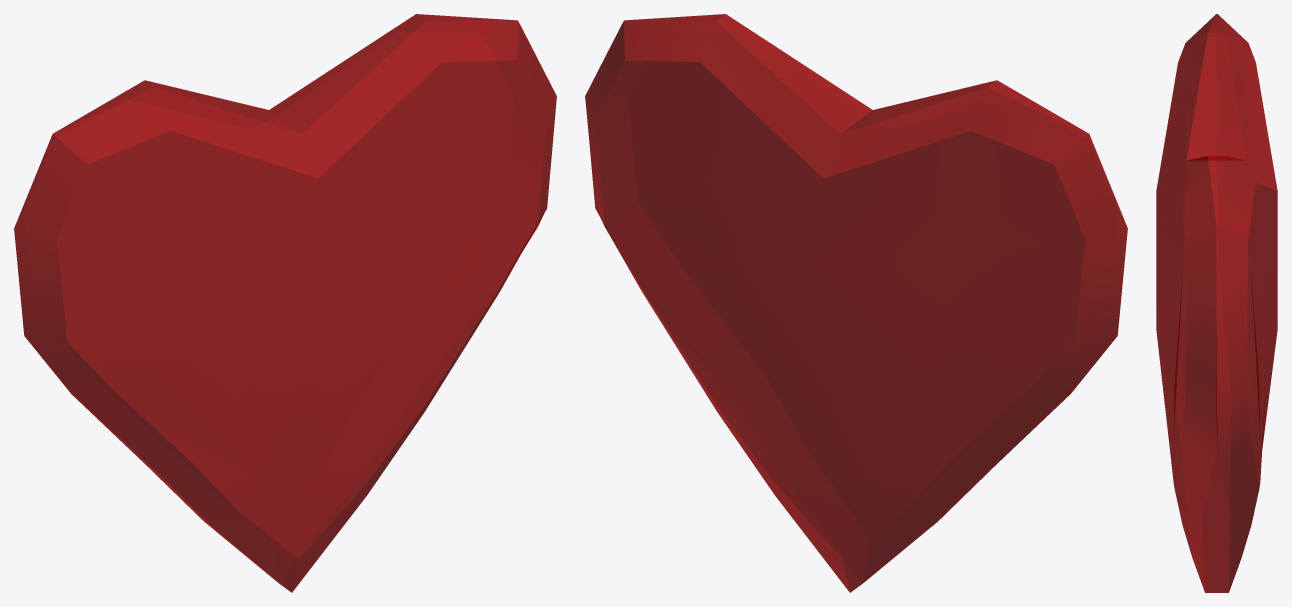
The model's file is HealthPowerup.fbx.
3 views of the same model, side by side, from view 1: azimuth 30°, elevation 25°; view 2: azimuth 150°, elevation 25°; view 3: azimuth 270°, elevation 25° (orthographic). The views are drawn at different scales.
Visible parts, largest first — view 1: pCube1; view 2: pCube1; view 3: pCube1.
Boxes of the visible parts, x1,y1,x2,y2 form: pCube1: (14, 14, 556, 592); pCube1: (585, 14, 1127, 592); pCube1: (1156, 14, 1277, 592).
Bounding box in the file's own units: 1 × 0.9465 × 0.2087.
